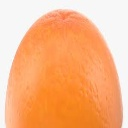orange: (4, 11, 128, 128)
